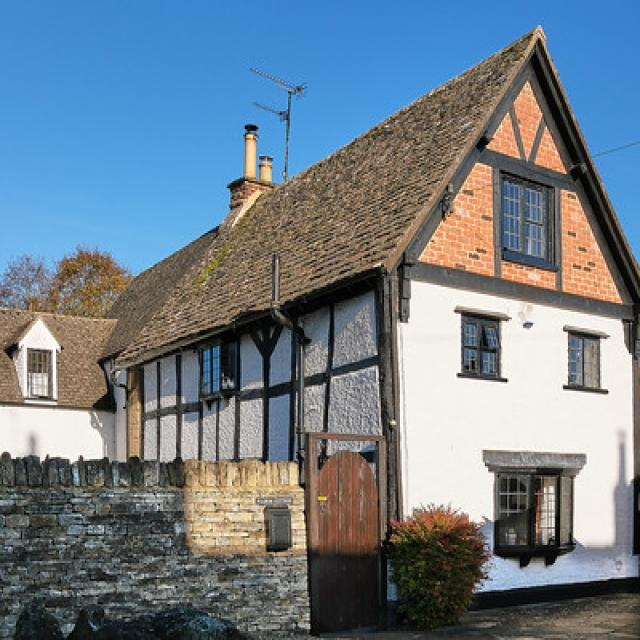Normal_building: (3, 22, 640, 628)
